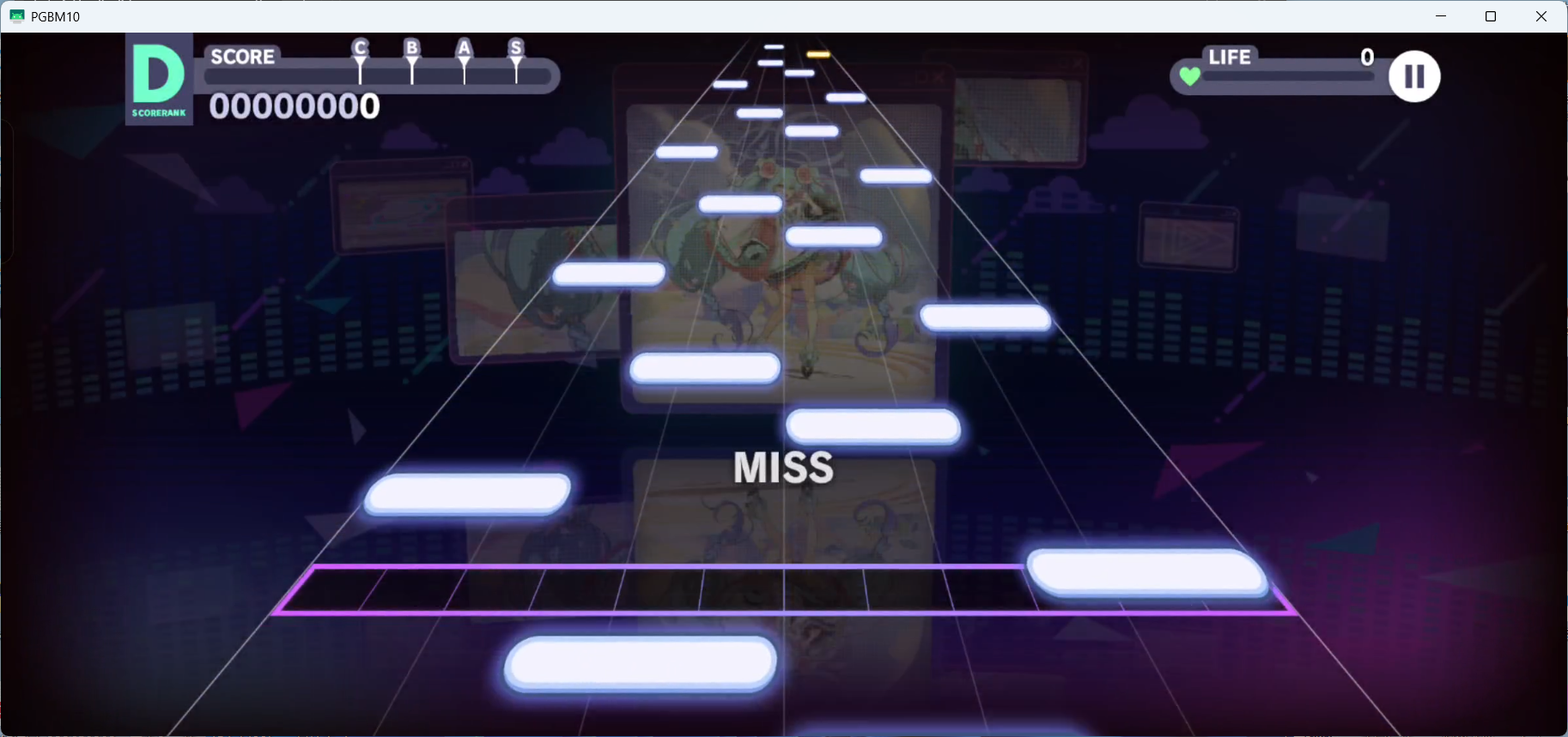tap: (504, 636, 777, 692), (1026, 549, 1268, 598), (364, 474, 571, 517), (785, 408, 961, 448), (629, 352, 781, 386), (921, 303, 1051, 333), (551, 261, 665, 287), (786, 226, 884, 247), (697, 193, 781, 212), (860, 167, 933, 185), (655, 146, 718, 158), (785, 125, 839, 136), (737, 108, 783, 119), (825, 94, 866, 103), (713, 80, 748, 89), (784, 69, 814, 77), (757, 59, 783, 66), (806, 51, 830, 57), (763, 44, 783, 49)
